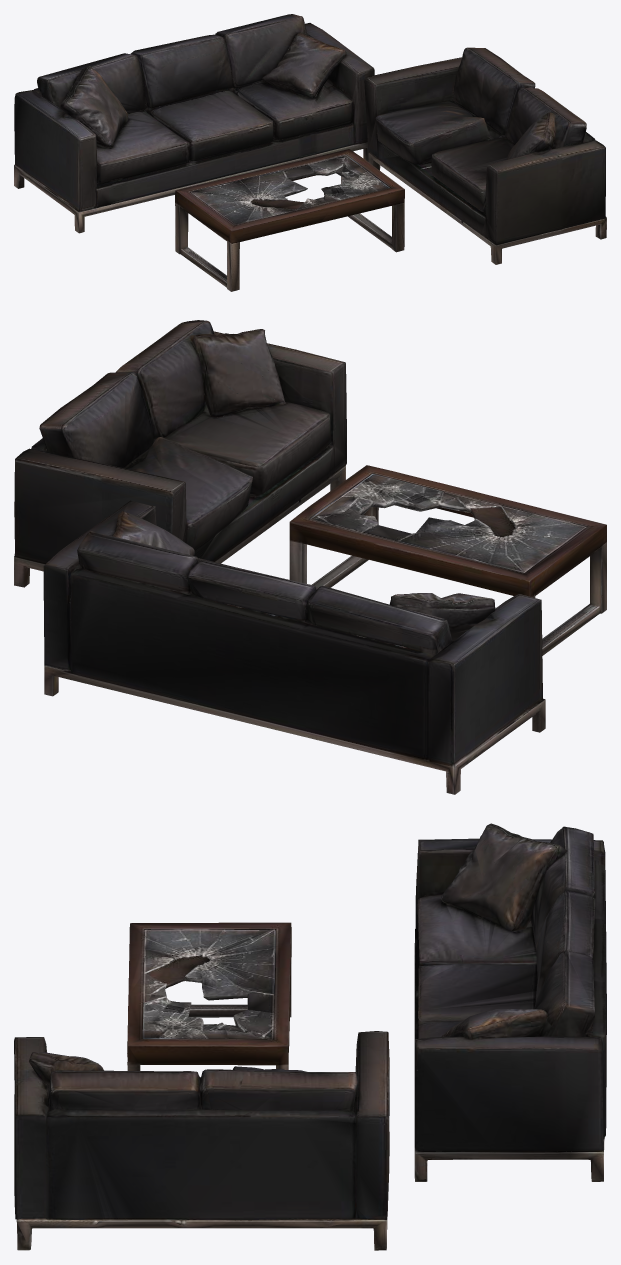
The model's file is CEO_couch_coffee_table.glb.
The picture shows the model from 3 angles, top to bottom: view 1: azimuth 30°, elevation 25°; view 2: azimuth 150°, elevation 25°; view 3: azimuth 270°, elevation 25°; orthographic projection. The views are drawn at different scales.
Visible parts, largest first — view 1: mesh_node; view 2: mesh_node; view 3: mesh_node.
Boxes of the visible parts, x1,y1,x2,y2 form: mesh_node: (14, 14, 606, 291); mesh_node: (14, 320, 606, 794); mesh_node: (14, 823, 606, 1250).
Size of the model in its own units: 1.9 by 0.5422 by 1.71.
1 material, 1 textured.
